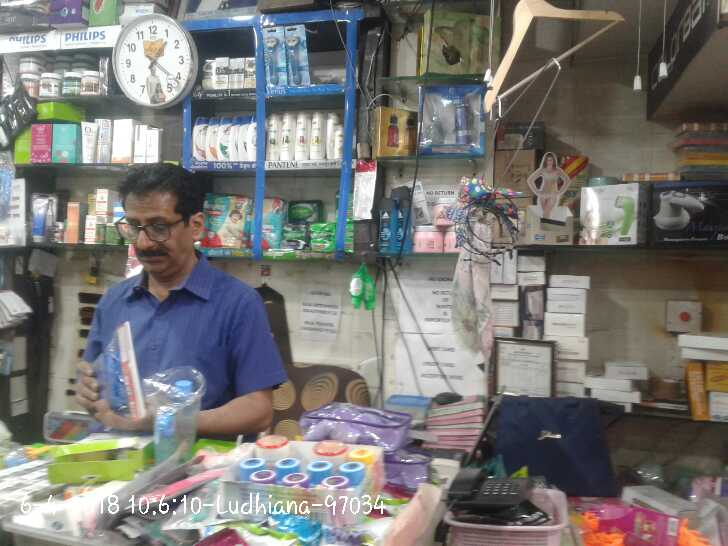venus: (265, 27, 284, 87), (288, 27, 304, 87)
